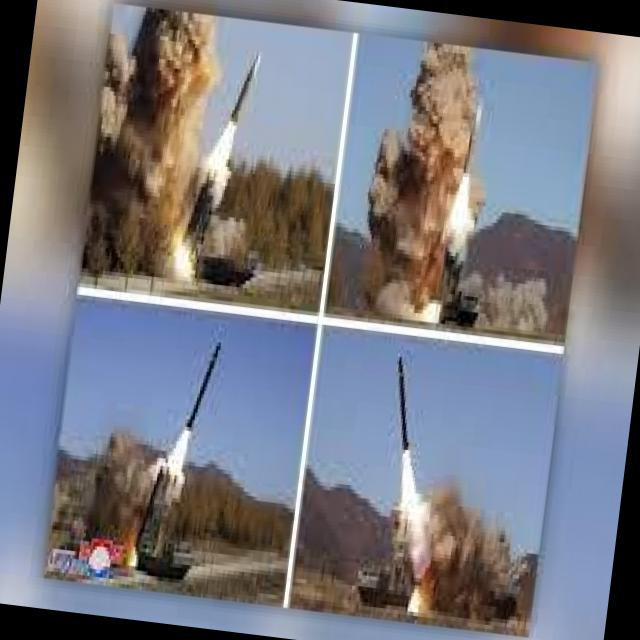rocket: (373, 349, 441, 532), (158, 326, 232, 484), (205, 35, 263, 173)
